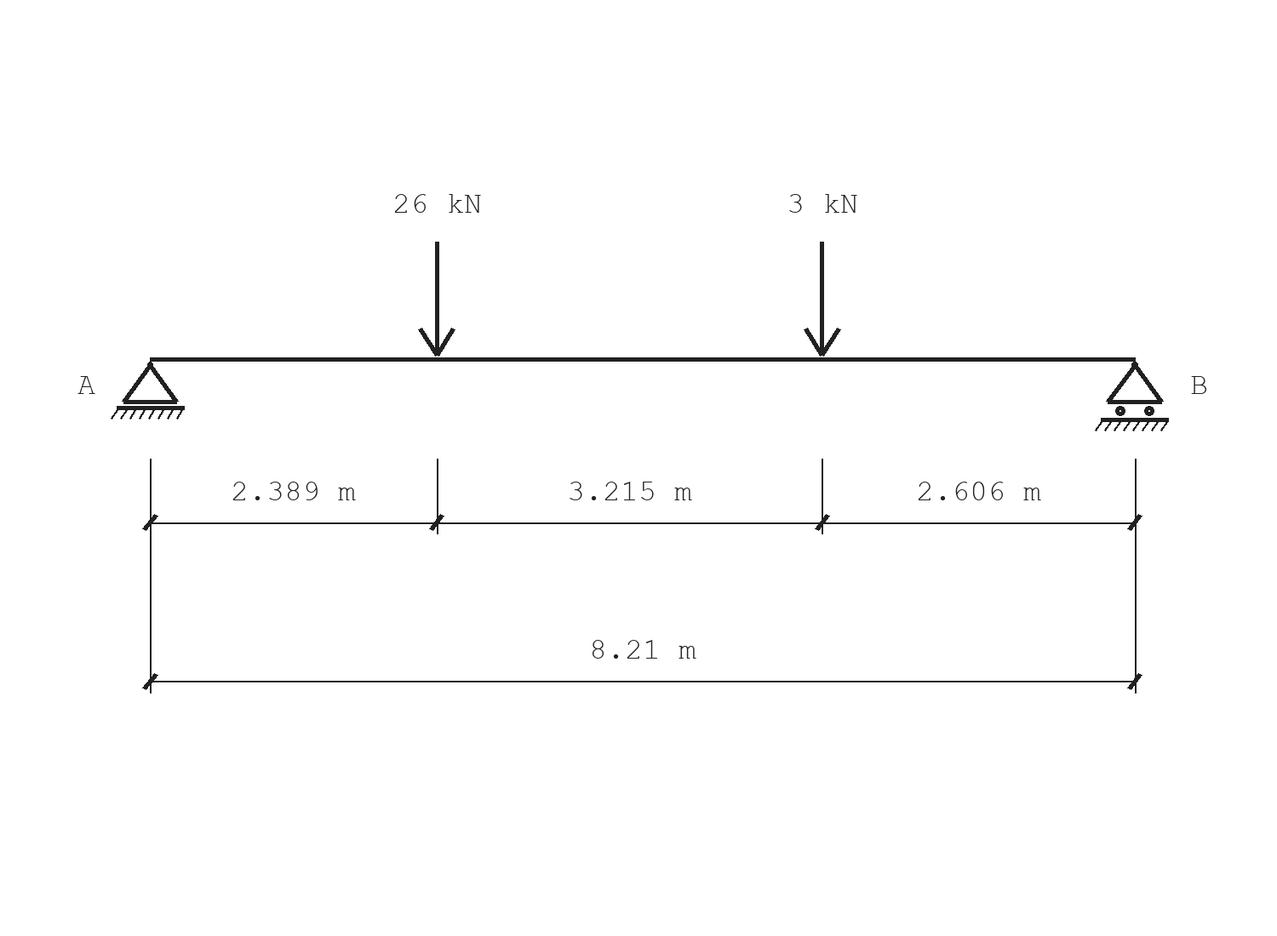pin_support: (111, 362, 185, 419)
point_load: (418, 242, 455, 357), (804, 242, 841, 357)
roller_support: (1095, 362, 1169, 431)
